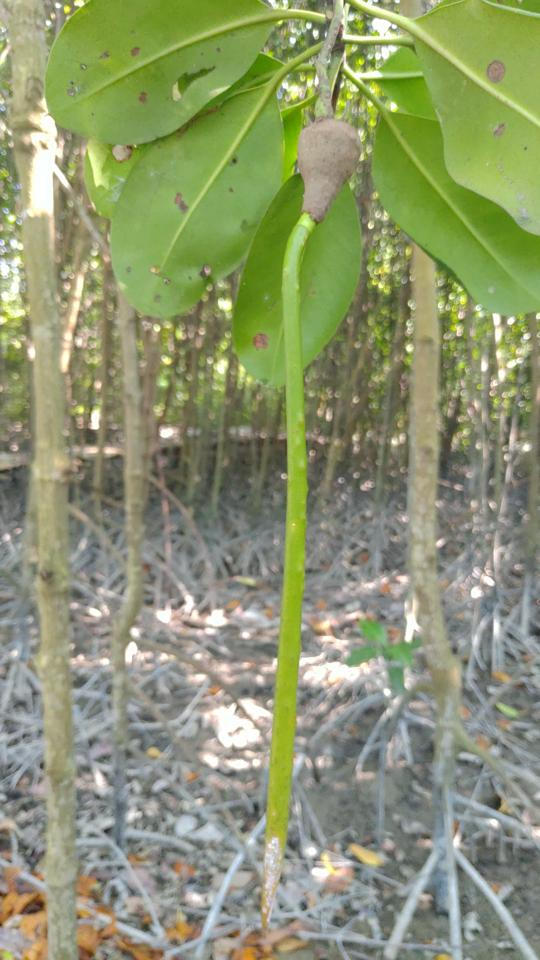setengah matang: (243, 100, 378, 930)
